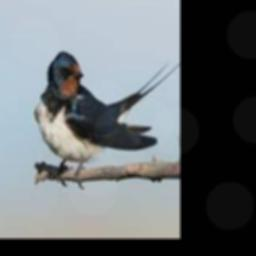Swallow: (35, 51, 180, 184)
